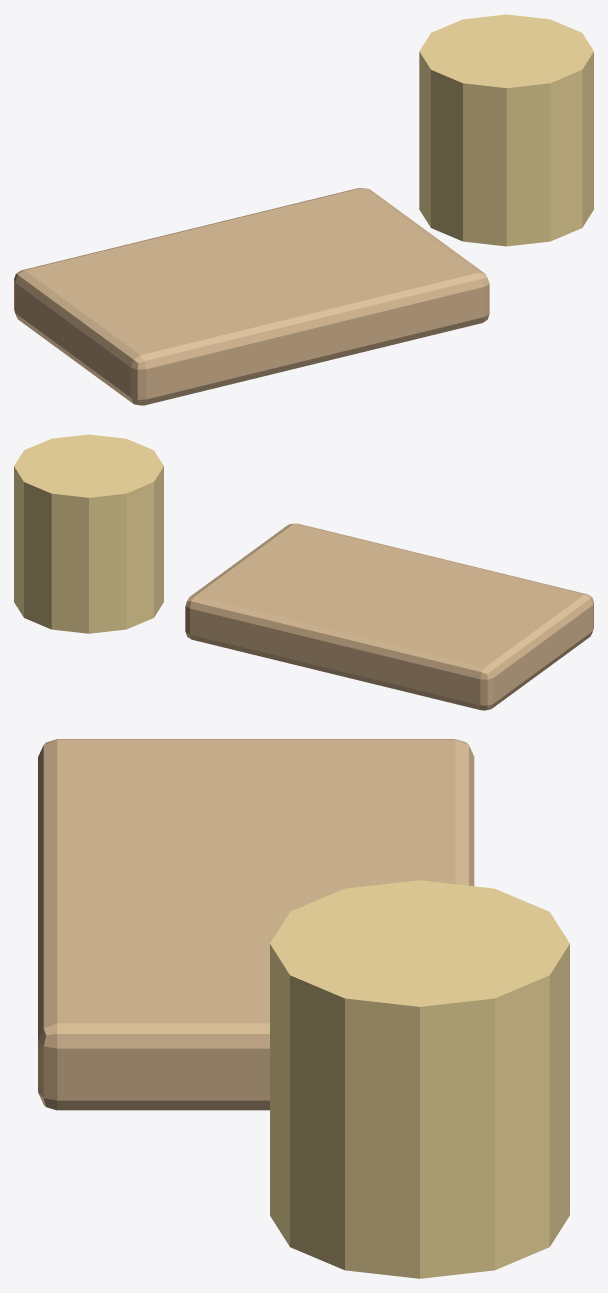
File: litter.glb
3 views of the same model, one above another, from view 1: azimuth 30°, elevation 25°; view 2: azimuth 150°, elevation 25°; view 3: azimuth 270°, elevation 25° (orthographic). The views are drawn at different scales.
Visible parts, largest first — view 1: paper, cup; view 2: paper, cup; view 3: paper, cup.
Part boxes in pixels (x1,y1,x2,y2): paper: [14, 188, 489, 405]; cup: [419, 14, 593, 246]; paper: [185, 523, 593, 710]; cup: [14, 434, 163, 633]; paper: [38, 739, 474, 1110]; cup: [270, 880, 569, 1278].
Size of the model in its own units: 0.405 by 0.1125 by 0.195.
